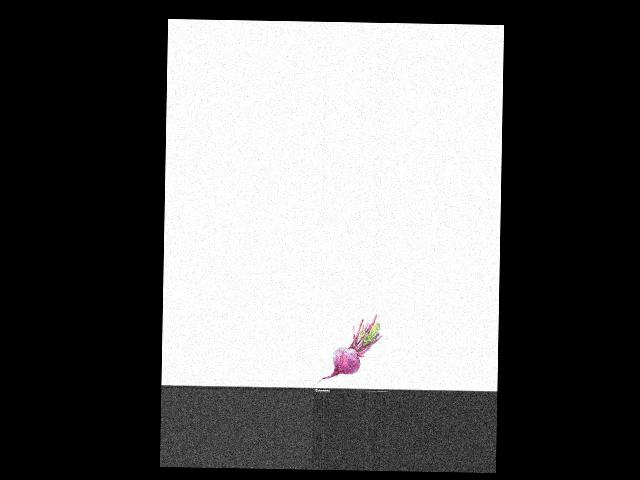beet: (316, 312, 382, 385)
